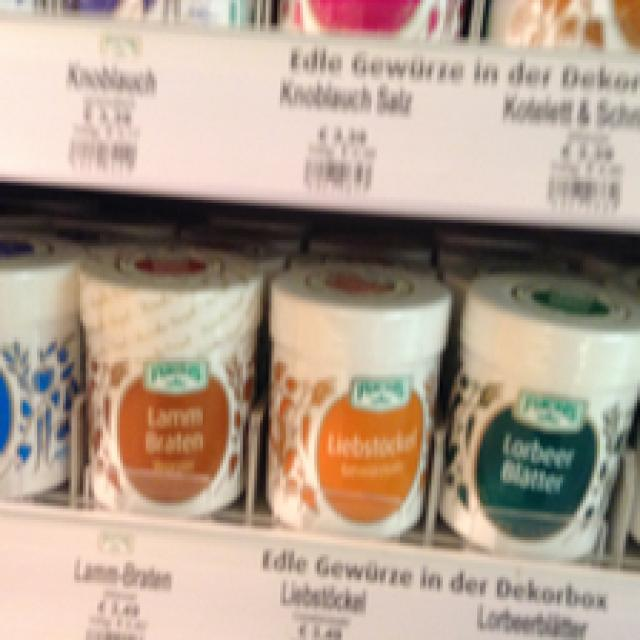groceries: (434, 269, 634, 554), (71, 237, 263, 509), (263, 260, 448, 540)
